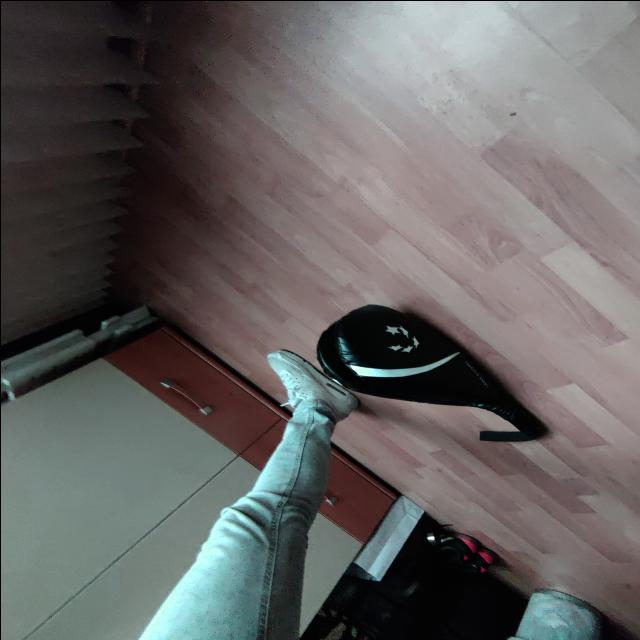paddle: (310, 302, 550, 432)
